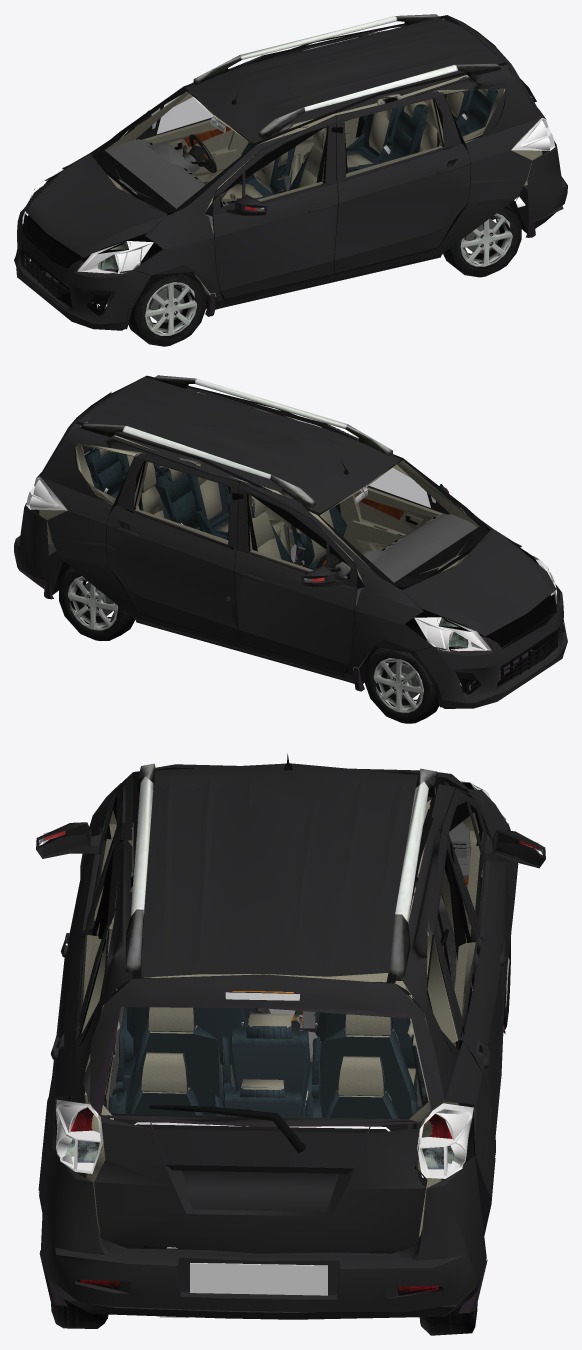
The model's file is ertiga.glb.
3 views of the same model, one above another, from view 1: azimuth 30°, elevation 25°; view 2: azimuth 150°, elevation 25°; view 3: azimuth 270°, elevation 25° (orthographic). The views are drawn at different scales.
Visible parts, largest first — view 1: body, door_lr_ok, door_lf_ok, windscreen_ok, jok, bonnet_ok, blacks, wheel__1_, Ertiga_Dash, extra1, int, wheel (+10 smaller); view 2: body, door_rr_ok, door_rf_ok, windscreen_ok, jok, bonnet_ok, blacks, wheel__2_, int, door_lf_ok, extra1, Ertiga_Dash (+8 smaller); view 3: body, boot_ok, jok, door_rr_ok, door_rf_ok, int, light, extra1, door_lr_ok, door_lf_ok, numberplate, blacks (+6 smaller).
Boxes of the visible parts, x1,y1,x2,y2 form: body: (14,16,567,330); door_lr_ok: (334,91,470,273); door_lf_ok: (212,116,337,298); windscreen_ok: (105,89,253,208); jok: (203,88,498,204); bonnet_ok: (24,153,167,257); blacks: (21,15,534,329); wheel__1_: (128,272,206,346); Ertiga_Dash: (107,139,286,226); extra1: (193,14,501,139); int: (104,19,542,296); wheel: (443,204,521,277); body: (14,377,567,708); door_rr_ok: (106,453,239,642); door_rf_ok: (234,482,357,672); windscreen_ok: (320,460,478,582); jok: (81,445,347,569); bonnet_ok: (402,529,556,636); blacks: (44,375,563,707); wheel__2_: (364,647,439,723); int: (39,393,479,671); door_lf_ok: (326,424,458,551); extra1: (81,375,393,509); Ertiga_Dash: (294,514,477,601); body: (38,763,517,1319); boot_ok: (82,974,445,1253); jok: (108,994,432,1119); door_rr_ok: (428,829,502,1159); door_rf_ok: (438,788,545,1067); int: (81,796,482,1237); light: (56,781,506,1295); extra1: (126,763,437,980); door_lr_ok: (49,823,121,1150); door_lf_ok: (36,782,125,1057); numberplate: (190,1263,327,1295); blacks: (39,753,518,1317).
Size of what is drawn, in the model's own units: 10.69 by 4.28 by 4.93.
Materials: 34 (20 with a texture image).
